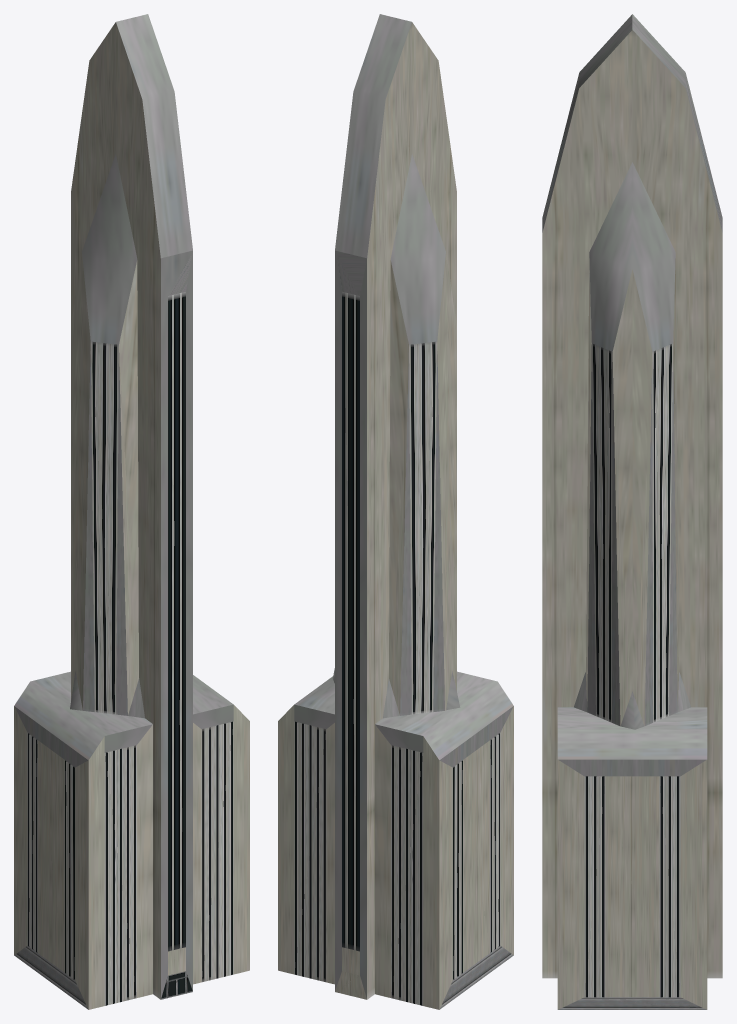
The model's file is thm_corl_skyskraper_s02_r0_mesh_l3.fbx.
3 views of the same model, side by side, from view 1: azimuth 30°, elevation 25°; view 2: azimuth 150°, elevation 25°; view 3: azimuth 270°, elevation 25° (orthographic).
Parts seen in each view (by area): view 1: mesh_node; view 2: mesh_node; view 3: mesh_node.
Boxes of the visible parts, box(x1,y1,x2,y2) form: mesh_node: box(14, 14, 249, 1009); mesh_node: box(278, 14, 513, 1009); mesh_node: box(542, 14, 722, 1009).
Size of the model in its own units: 34.5 by 193 by 33.32.
1 material, 1 textured.
